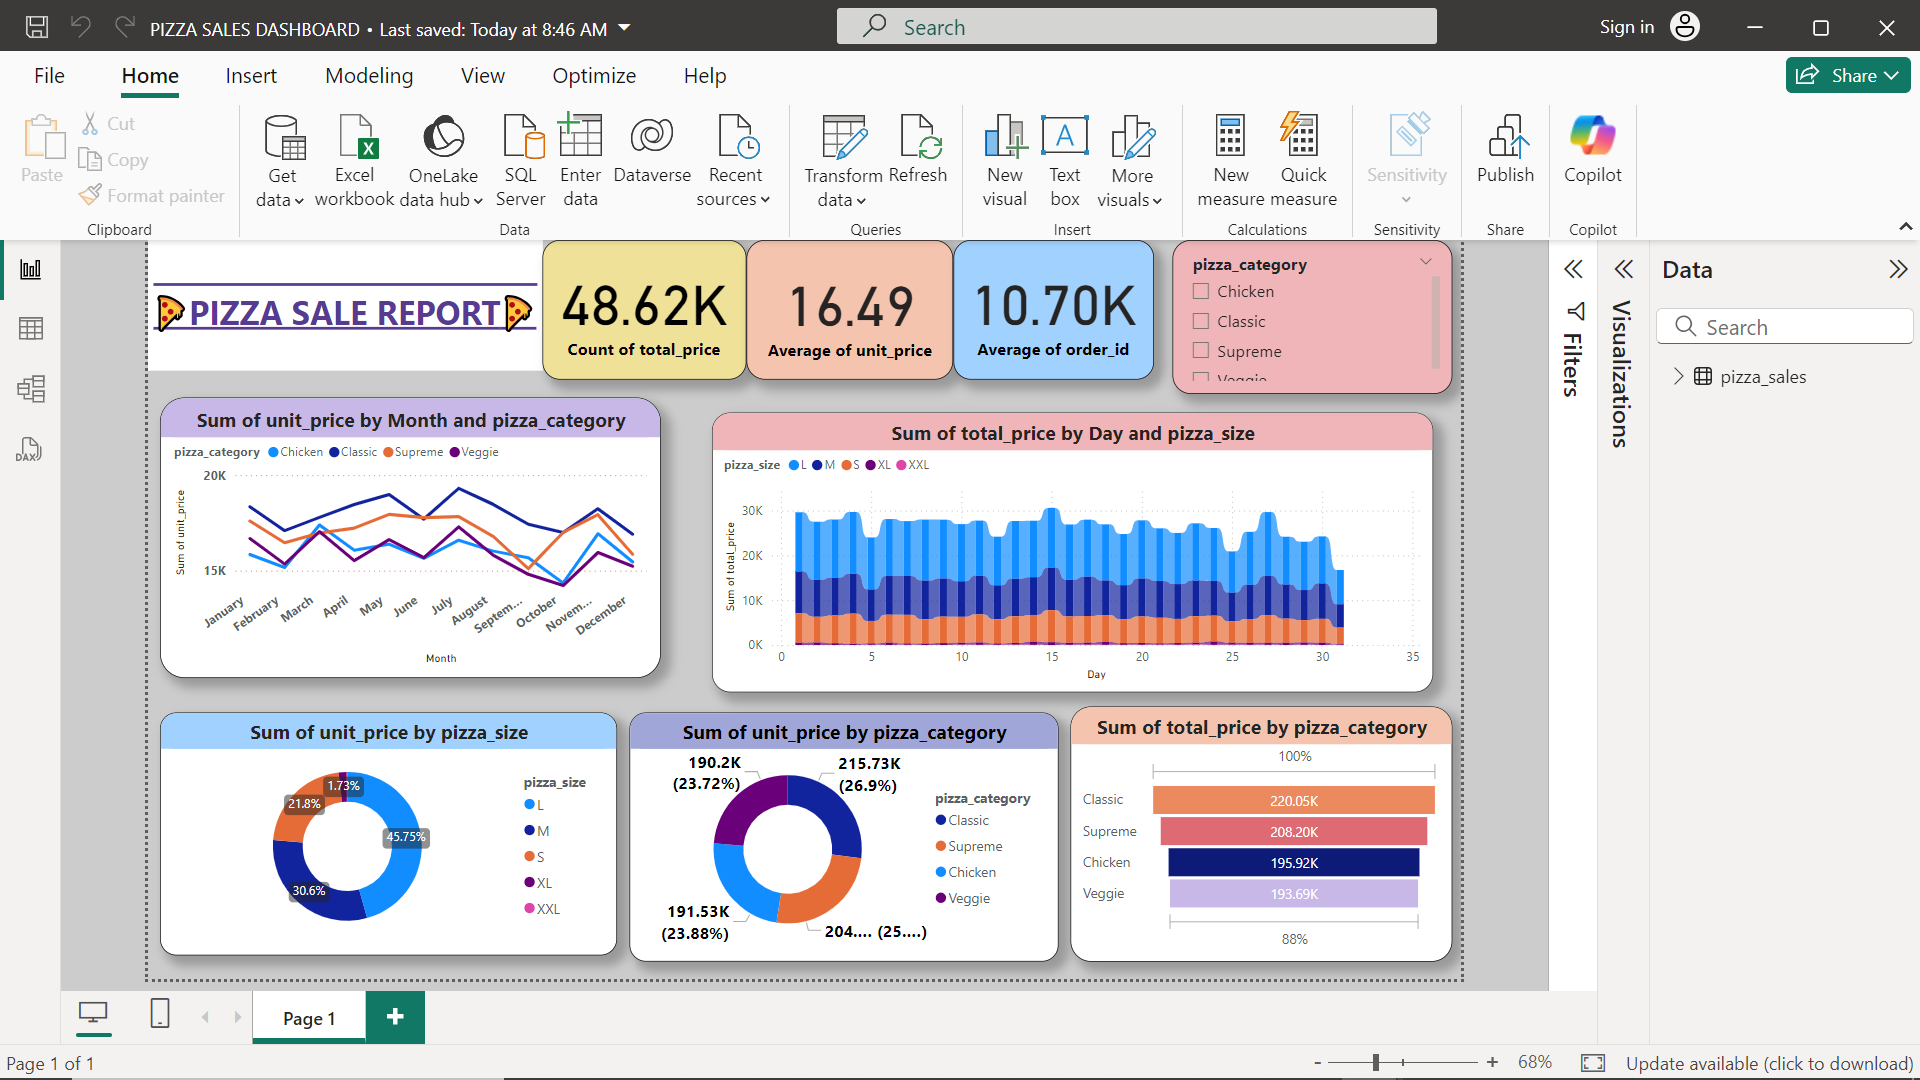

What the dashboard file says about the page in this screenshot:
{"tool":"powerbi","page":{"name":"Page 1","canvas":[1280,720],"ordinal":0},"visuals":[{"type":"textbox","box":[0,0,384.4,127.1],"z":0},{"type":"lineChart","fields":{"Category":["pizza_sales.order_date.Variation.Date Hierarchy.Month"],"Series":["pizza_sales.pizza_category"],"Y":["Sum(pizza_sales.unit_price)"]},"box":[11.7,153.5,488.1,273.3],"z":1000},{"type":"card","fields":{"Values":["CountNonNull(pizza_sales.total_price)"]},"box":[384.6,0,198.4,136.3],"z":2000},{"type":"card","fields":{"Values":["Avg(pizza_sales.unit_price)"]},"box":[583,0,201.4,136.3],"z":3000},{"type":"card","fields":{"Values":["Avg(pizza_sales.order_id)"]},"box":[784.4,0,195.3,136.3],"z":4000},{"type":"donutChart","fields":{"Category":["pizza_sales.pizza_size"],"Y":["Sum(pizza_sales.unit_price)"]},"box":[11.8,460.3,445.6,236.8],"z":5000},{"type":"donutChart","fields":{"Y":["Sum(pizza_sales.unit_price)"],"Category":["pizza_sales.pizza_category"]},"box":[469.1,460.4,418,242.6],"z":6000},{"type":"ribbonChart","fields":{"Y":["Sum(pizza_sales.total_price)"],"Category":["pizza_sales.order_date.Variation.Date Hierarchy.Day"],"Series":["pizza_sales.pizza_size"]},"box":[549.7,168.1,702.6,272.6],"z":7000},{"type":"funnel","fields":{"Category":["pizza_sales.pizza_category"],"Y":["Sum(pizza_sales.total_price)"]},"box":[898.5,454.4,372.1,248.5],"z":8000},{"type":"slicer","fields":{"Values":["pizza_sales.pizza_category"]},"box":[997.9,0,272.6,149.9],"z":9000}]}

Visuals, with their boxes on the page's 1280x720 design canvas (x1, y1, x2, y2). These are canvas units, not pixel positions in the 1920x1080 screenshot, which may show the page scaled, cropped or inside an application window:
textbox: box=[0, 0, 384, 127]
lineChart - pizza_sales.order_date.Variation.Date Hierarchy.Month x pizza_sales.pizza_category: box=[12, 154, 500, 427]
card - CountNonNull(pizza_sales.total_price): box=[385, 0, 583, 136]
card - Avg(pizza_sales.unit_price): box=[583, 0, 784, 136]
card - Avg(pizza_sales.order_id): box=[784, 0, 980, 136]
donutChart - pizza_sales.pizza_size x Sum(pizza_sales.unit_price): box=[12, 460, 457, 697]
donutChart - Sum(pizza_sales.unit_price) x pizza_sales.pizza_category: box=[469, 460, 887, 703]
ribbonChart - Sum(pizza_sales.total_price) x pizza_sales.order_date.Variation.Date Hierarchy.Day: box=[550, 168, 1252, 441]
funnel - pizza_sales.pizza_category x Sum(pizza_sales.total_price): box=[898, 454, 1271, 703]
slicer - pizza_sales.pizza_category: box=[998, 0, 1270, 150]
